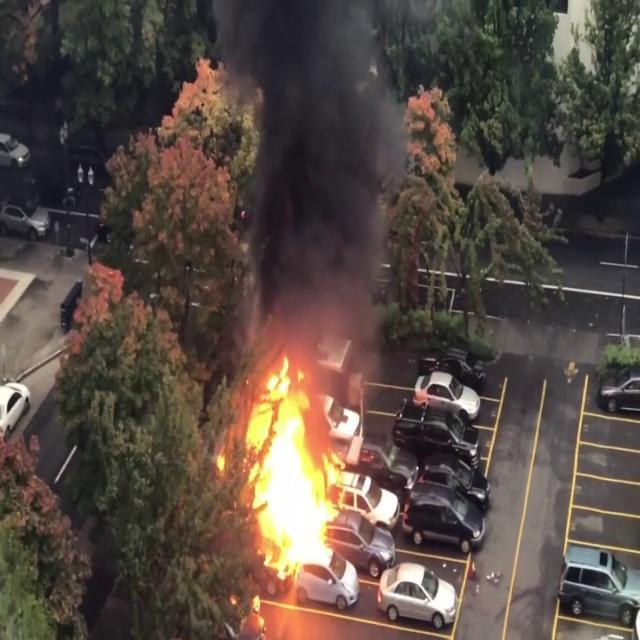Fire: (227, 346, 351, 586)
Smoke: (219, 0, 422, 349)
